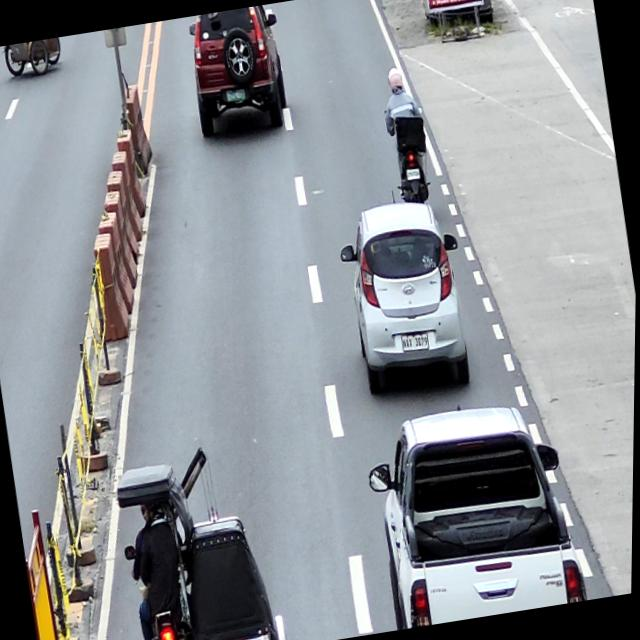Car: (360, 392, 592, 632), (333, 192, 481, 401), (184, 3, 294, 141)
License-Plate: (402, 332, 431, 353), (227, 88, 247, 104), (407, 168, 421, 182)
Motorcycle: (383, 102, 438, 209)
Tricycle: (113, 447, 292, 640), (3, 38, 67, 80)
